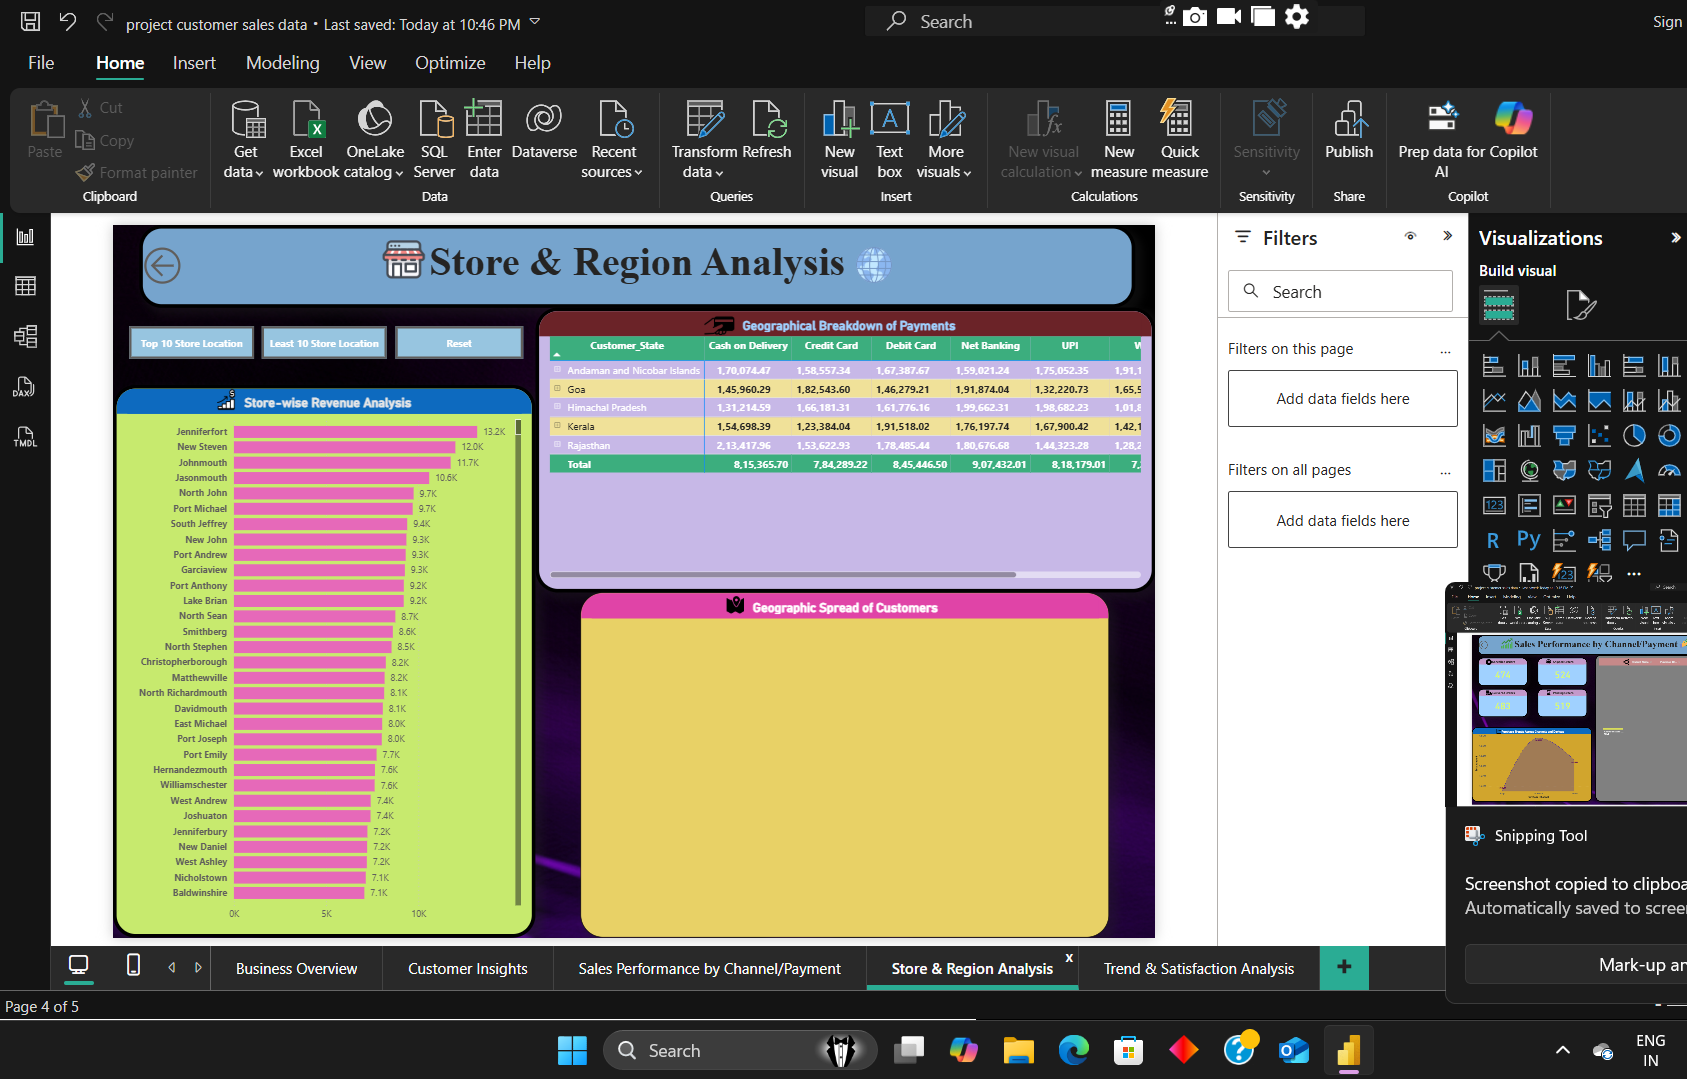

The page's visual inventory and layout, read from the dashboard file:
{"tool":"powerbi","page":{"name":"Store & Region Analysis","canvas":[1390,950],"ordinal":3},"visuals":[{"type":"textbox","box":[35,0,1328.3,110],"z":0},{"type":"barChart","title":"Store-wise Revenue Analysis","fields":{"Category":["Dim_Store.Store_Location"],"Y":["Sum(Fact_Purchase.Final_Amount)"]},"box":[0,213.3,563.3,736.7],"z":1000},{"type":"pivotTable","title":"Geographical Breakdown of Payments","fields":{"Rows":["Dim_Customer.Customer_State","Dim_Customer.Customer_City"],"Values":["Sum(Fact_Purchase.Final_Amount)"],"Columns":["Dim_Payment.Payment_Method"]},"box":[563.3,110,826.7,380],"z":2000},{"type":"actionButton","box":[35,23.3,61.7,61.7],"z":3000},{"type":"actionButton","title":"Top 10 Store Location","box":[21.7,135,166.7,43.3],"z":4000},{"type":"actionButton","title":"Top 10 Store Location","box":[198.3,135,166.7,43.3],"z":5000},{"type":"actionButton","title":"Top 10 Store Location","box":[376.7,135,170,43.3],"z":6000},{"type":"image","box":[113.3,213.3,75,38.3],"z":7000},{"type":"image","box":[771.7,110,73.3,50],"z":8000},{"type":"image","box":[350,6.7,75,78.3],"z":9000},{"type":"image","box":[976.7,23.3,76.7,60],"z":10000},{"type":"map","title":"Geographic Spread of Customers","fields":{"Size":["Sum(Fact_Purchase.Final_Amount)"],"Series":["Dim_Customer.Customer_State"],"Category":["Dim_Customer.Customer_State"]},"box":[623.3,490,705,460],"z":11000},{"type":"image","box":[793.3,490,73.3,33.3],"z":12000}]}

Visuals, with their boxes on the page's 1390x950 design canvas (x1, y1, x2, y2). These are canvas units, not pixel positions in the 1687x1079 screenshot, which may show the page scaled, cropped or inside an application window:
textbox: bbox=(35, 0, 1363, 110)
"Store-wise Revenue Analysis" barChart: bbox=(0, 213, 563, 950)
"Geographical Breakdown of Payments" pivotTable: bbox=(563, 110, 1390, 490)
actionButton: bbox=(35, 23, 97, 85)
"Top 10 Store Location" actionButton: bbox=(22, 135, 188, 178)
"Top 10 Store Location" actionButton: bbox=(198, 135, 365, 178)
"Top 10 Store Location" actionButton: bbox=(377, 135, 547, 178)
image: bbox=(113, 213, 188, 252)
image: bbox=(772, 110, 845, 160)
image: bbox=(350, 7, 425, 85)
image: bbox=(977, 23, 1053, 83)
"Geographic Spread of Customers" map: bbox=(623, 490, 1328, 950)
image: bbox=(793, 490, 867, 523)
